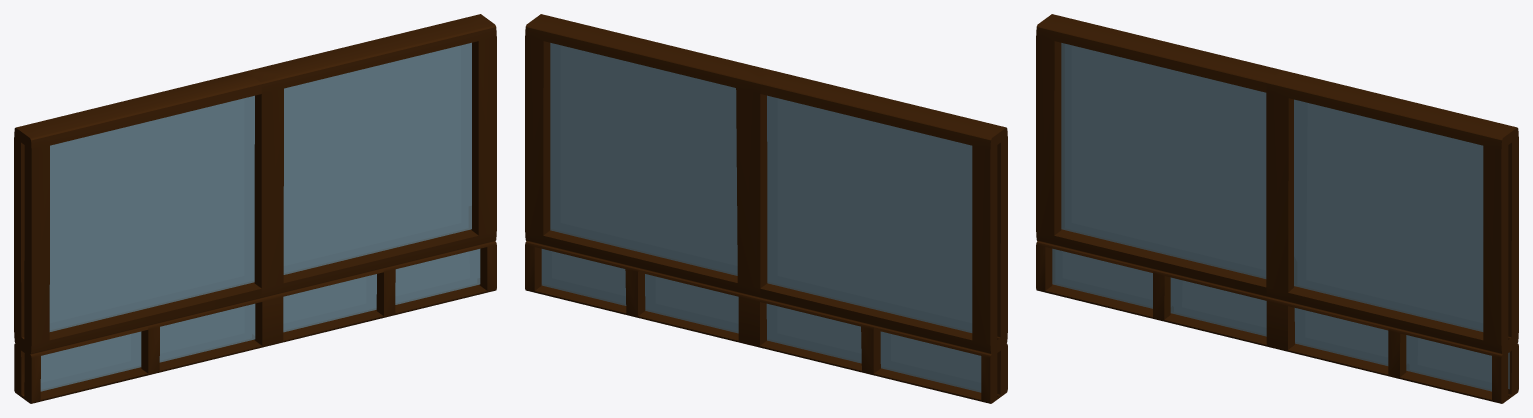
The model's file is window.fbx.
The picture shows the model from 3 angles, left to right: view 1: azimuth 30°, elevation 25°; view 2: azimuth 150°, elevation 25°; view 3: azimuth 330°, elevation 25°; orthographic projection.
Visible parts, largest first — view 1: WindowBigGlass, WindowBigFrame, WindowSmallGlass, windowSmallFrame; view 2: WindowBigGlass1, WindowBigFrame, WindowSmallGlass1, windowSmallFrame; view 3: WindowBigGlass, WindowBigFrame, WindowSmallGlass, windowSmallFrame.
Part boxes in pixels (box(x1,y1,x2,y2)): WindowBigGlass: box(49, 42, 471, 331); WindowBigFrame: box(14, 14, 496, 354); WindowSmallGlass: box(40, 249, 480, 391); windowSmallFrame: box(14, 241, 496, 403); WindowBigGlass1: box(550, 43, 972, 332); WindowBigFrame: box(525, 14, 1007, 354); WindowSmallGlass1: box(541, 249, 981, 392); windowSmallFrame: box(525, 241, 1007, 403); WindowBigGlass: box(1061, 43, 1483, 331); WindowBigFrame: box(1036, 14, 1518, 354); WindowSmallGlass: box(1052, 248, 1491, 391); windowSmallFrame: box(1036, 241, 1518, 403).
Bounding box in the file's own units: 278 × 152 × 18.07.
